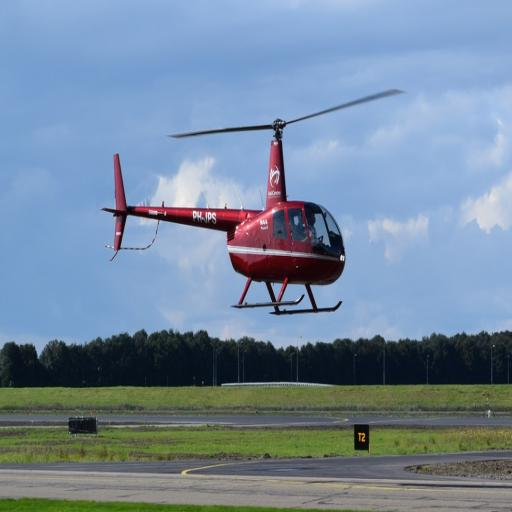helicopter: (100, 81, 412, 320)
